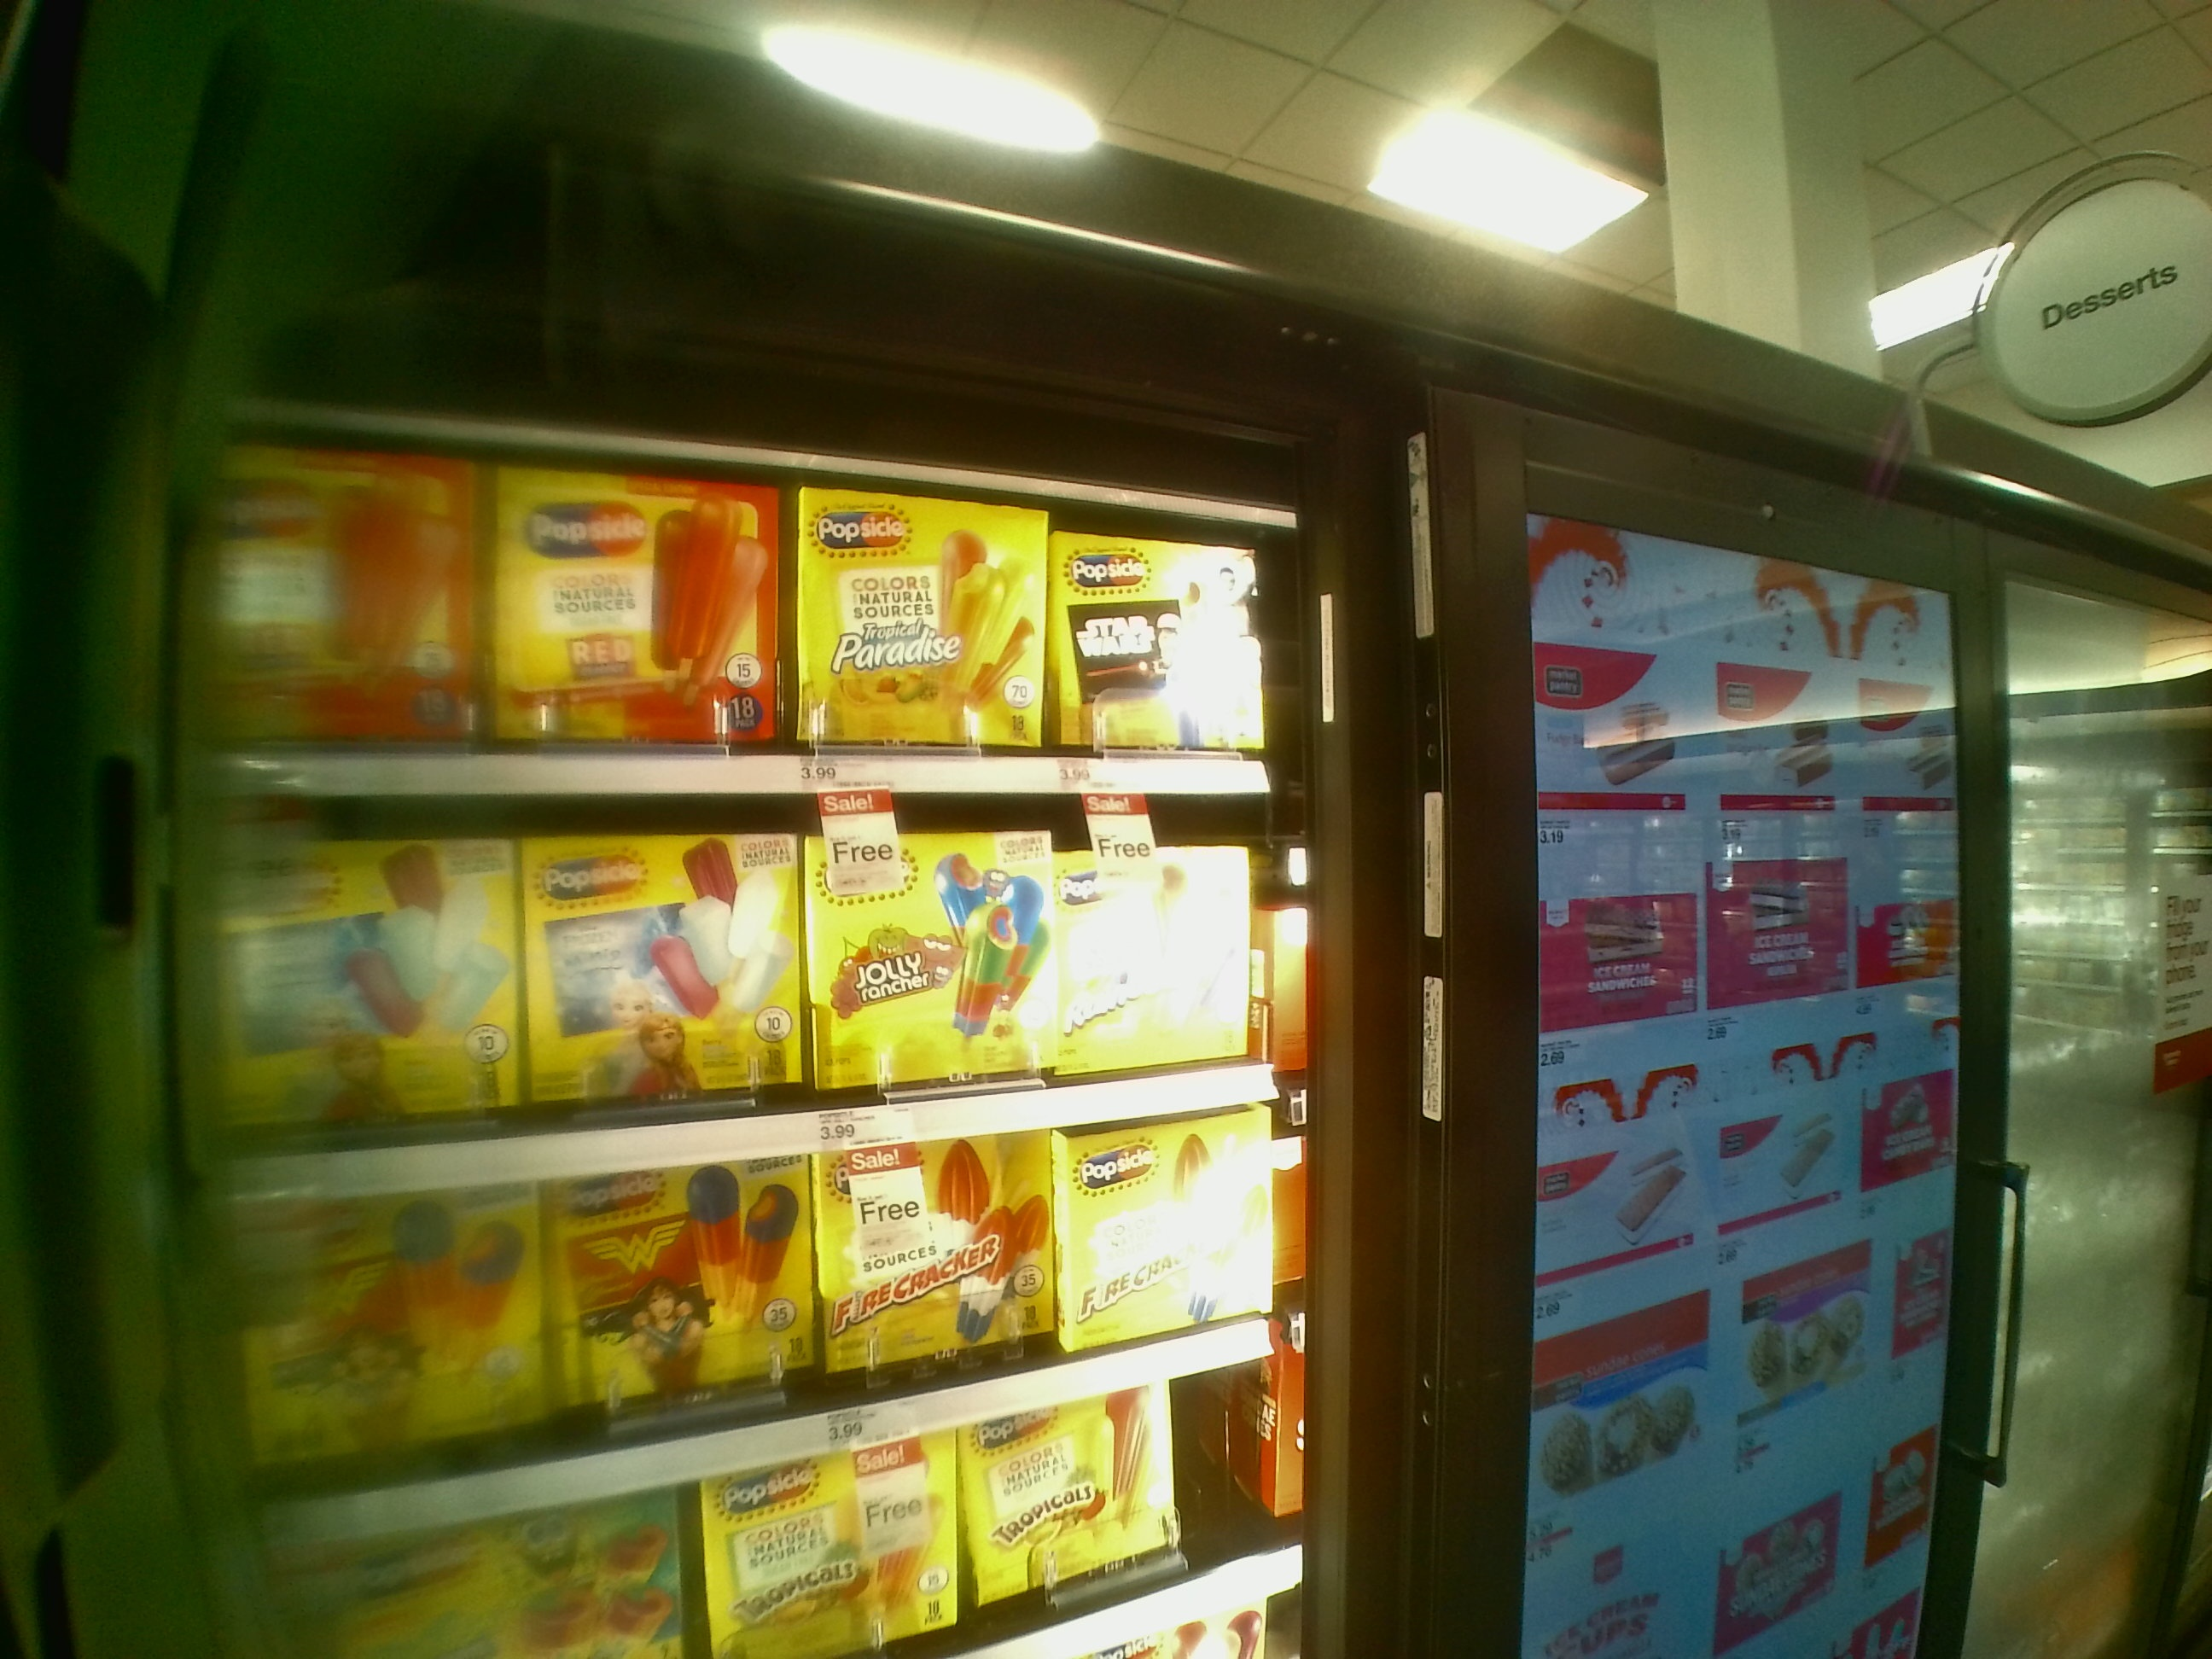shelf: (207, 430, 1273, 807), (200, 817, 1320, 1171), (212, 1140, 1308, 1438)
